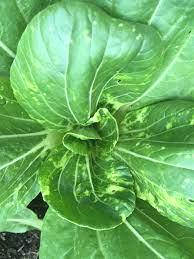Bok-Choy-Diseased: (9, 1, 156, 127), (38, 141, 139, 235), (106, 106, 194, 148)
